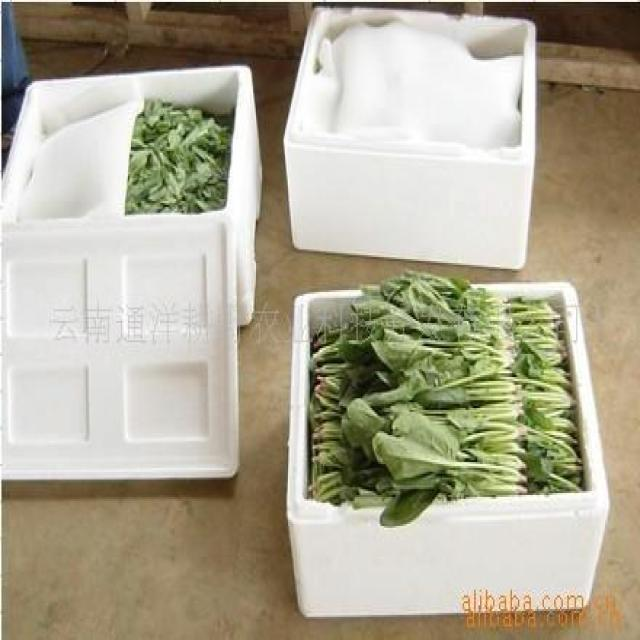styrofoam: (0, 62, 268, 481), (284, 274, 610, 618), (282, 4, 538, 271)
